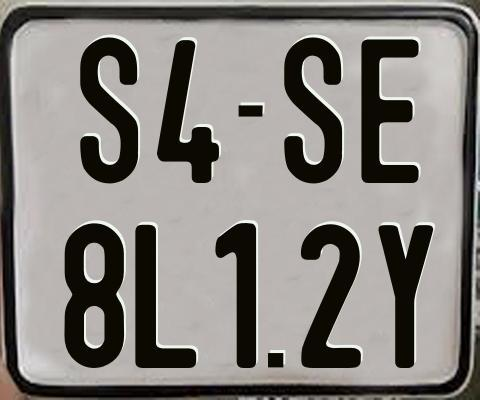1: (215, 222, 258, 367)
2: (300, 222, 366, 369)
4: (156, 39, 221, 188)
8: (61, 222, 123, 373)
E: (358, 36, 419, 185)
L: (134, 224, 196, 368)
S: (78, 36, 139, 189), (284, 35, 344, 183)
Y: (377, 224, 437, 372)
